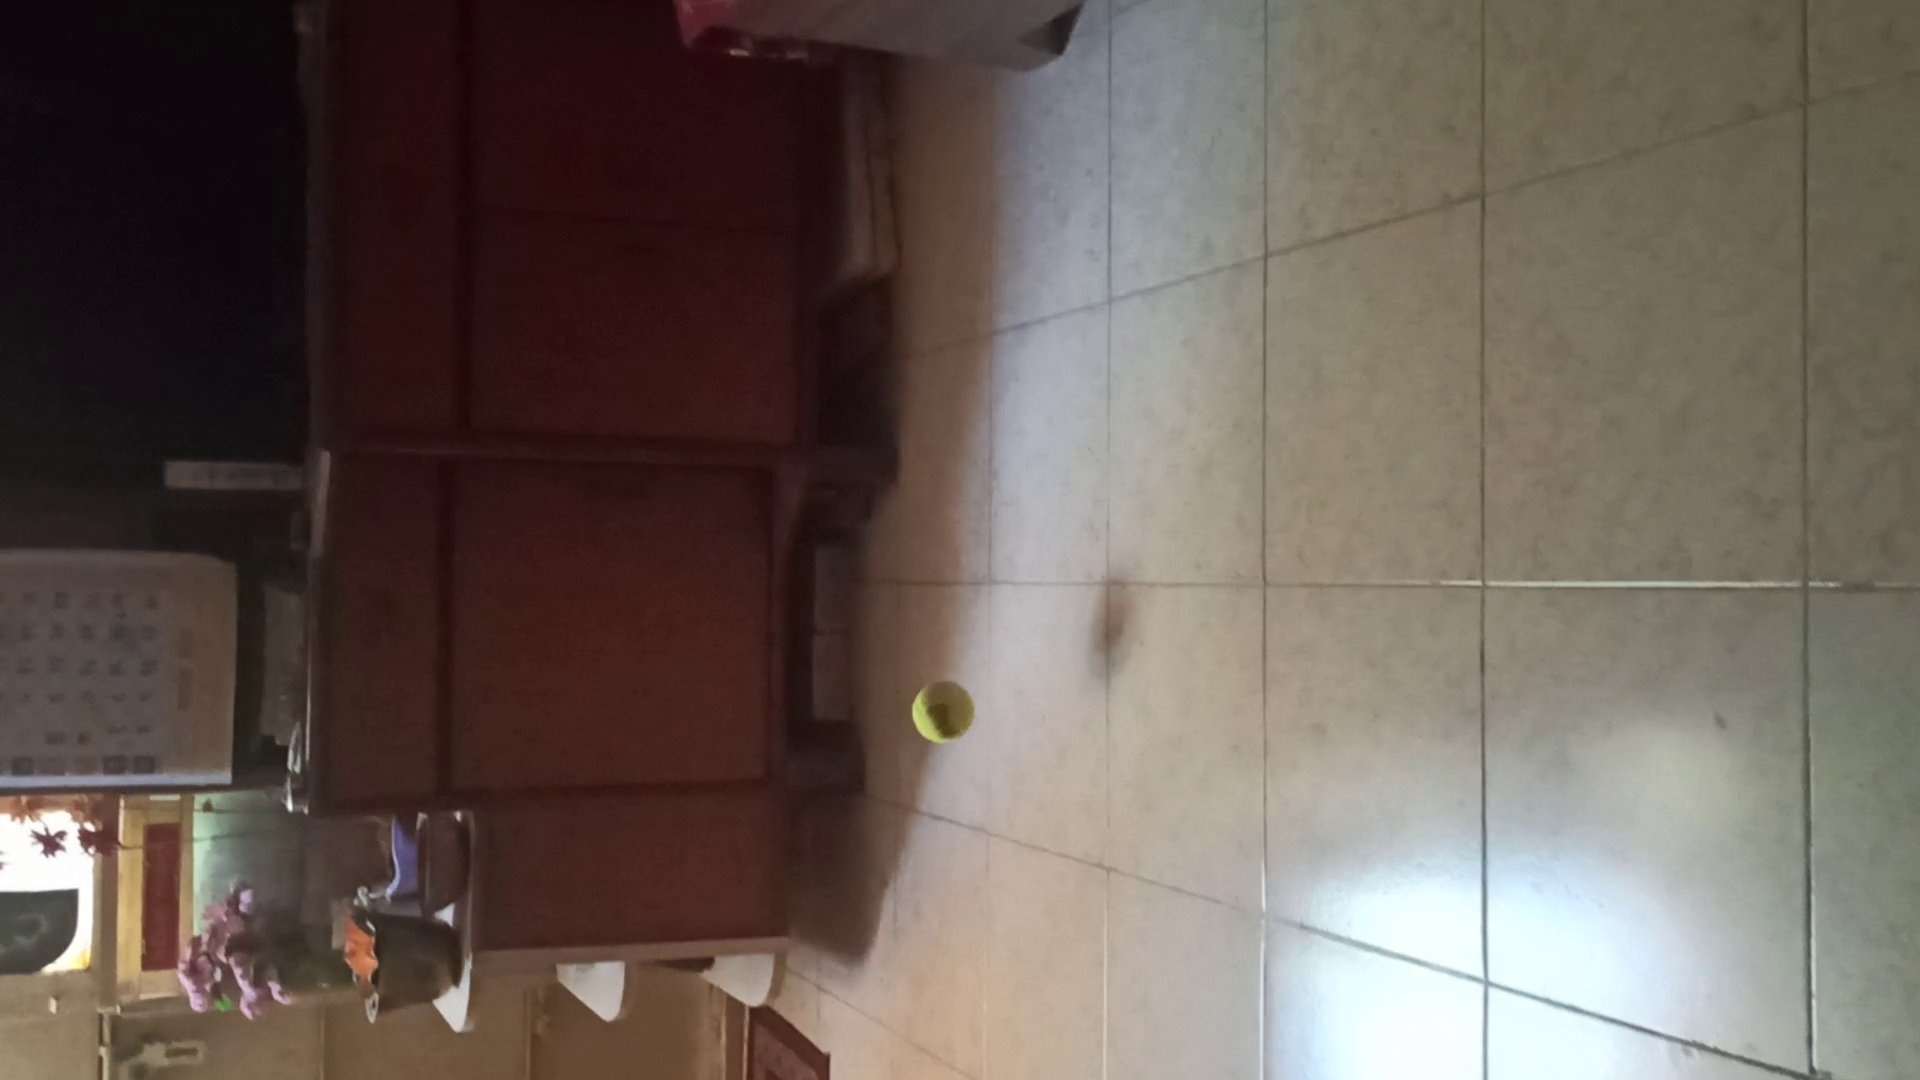Tennis-Ball: (913, 680, 975, 742)
